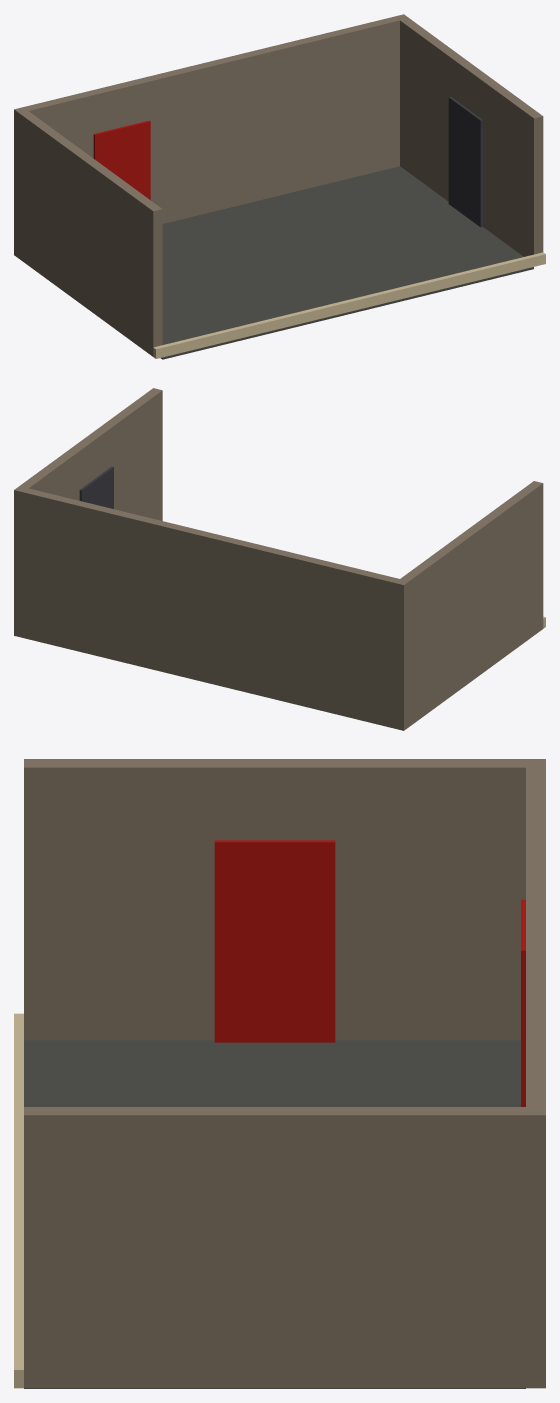
File: backstage.obj
3 renders of one model, top to bottom at view 1: azimuth 30°, elevation 25°; view 2: azimuth 150°, elevation 25°; view 3: azimuth 270°, elevation 25°, orthographic. The views are drawn at different scales.
Size of the model in its own units: 8.4 by 3.1 by 5.3.
